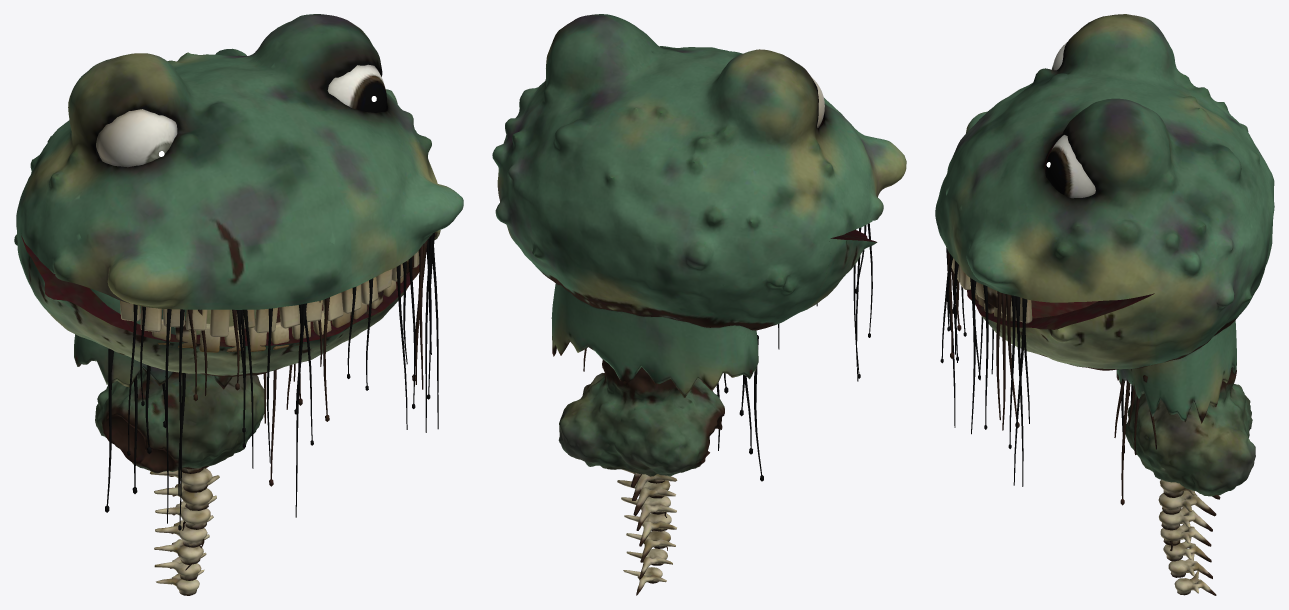
The model's file is toad_2.glb.
3 views of the same model, side by side, from view 1: azimuth 30°, elevation 25°; view 2: azimuth 150°, elevation 25°; view 3: azimuth 270°, elevation 25° (orthographic). The views are drawn at different scales.
Visible parts, largest first — view 1: head, jaw, body, eye_R, extra_1, eye_L, sway_1, sway_9, sway_4, sway_2, sway_5, extra_1_3 (+6 smaller); view 2: head, body, jaw, extra_1, extra_1_3, extra_1_4, sway_1, sway_9; view 3: head, body, jaw, eye_L, extra_1, sway_5, sway_8, sway_4, extra_1_3, extra_1_4, sway_10, sway_3 (+1 smaller).
Boxes of the visible parts, x1,y1,x2,y2 form: head: (14, 14, 463, 389); jaw: (20, 230, 440, 377); body: (95, 368, 266, 473); eye_R: (96, 109, 177, 167); extra_1: (150, 467, 219, 529); eye_L: (327, 64, 386, 112); sway_1: (127, 304, 184, 530); sway_9: (105, 348, 185, 512); sway_4: (365, 257, 415, 429); sway_2: (237, 308, 272, 468); sway_5: (425, 232, 438, 432); extra_1_3: (154, 515, 213, 564); head: (492, 14, 906, 397); body: (558, 359, 724, 476); jaw: (790, 230, 877, 317); extra_1: (617, 469, 677, 530); extra_1_3: (624, 513, 676, 562); extra_1_4: (623, 548, 672, 595); sway_1: (853, 223, 872, 381); sway_9: (716, 335, 763, 481); head: (935, 14, 1274, 423); body: (1125, 368, 1255, 496); jaw: (967, 290, 1155, 370); eye_L: (1045, 135, 1095, 198); extra_1: (1158, 479, 1220, 531); sway_5: (1008, 295, 1029, 486); sway_8: (996, 291, 1019, 430); sway_4: (953, 260, 988, 434); extra_1_3: (1160, 523, 1211, 562); extra_1_4: (1168, 553, 1216, 595); sway_10: (1114, 369, 1156, 505); sway_3: (940, 247, 955, 427).
Bounding box in the file's own units: 1.52 × 2.2 × 1.26.
Materials: 2 (1 with a texture image).
